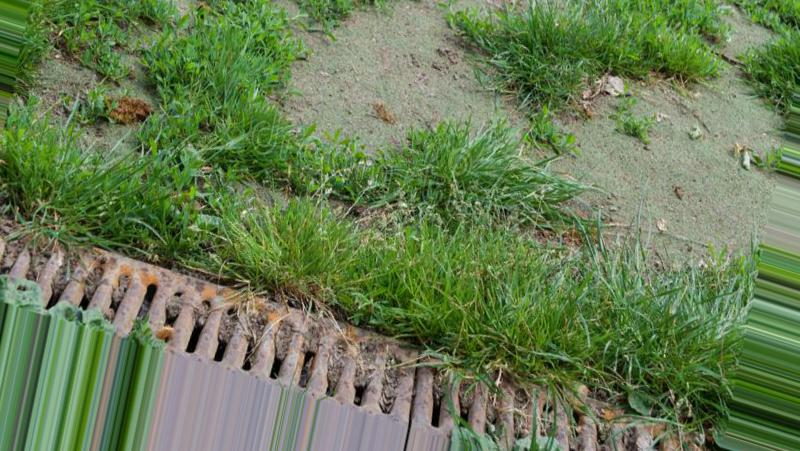patch: (643, 127, 769, 228), (334, 52, 450, 137), (566, 133, 654, 193), (696, 83, 762, 107), (390, 13, 431, 37)
